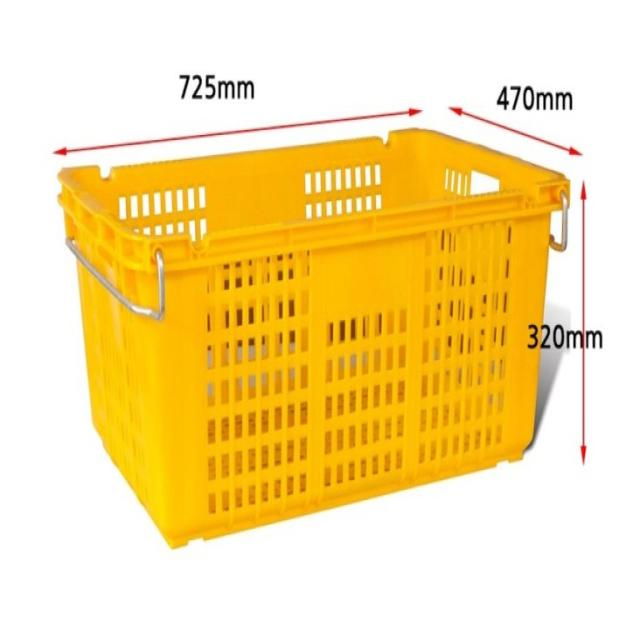basket: (55, 105, 611, 556)
